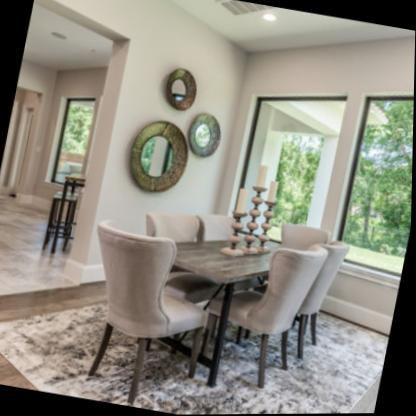Dining Table: (80, 192, 351, 402)
